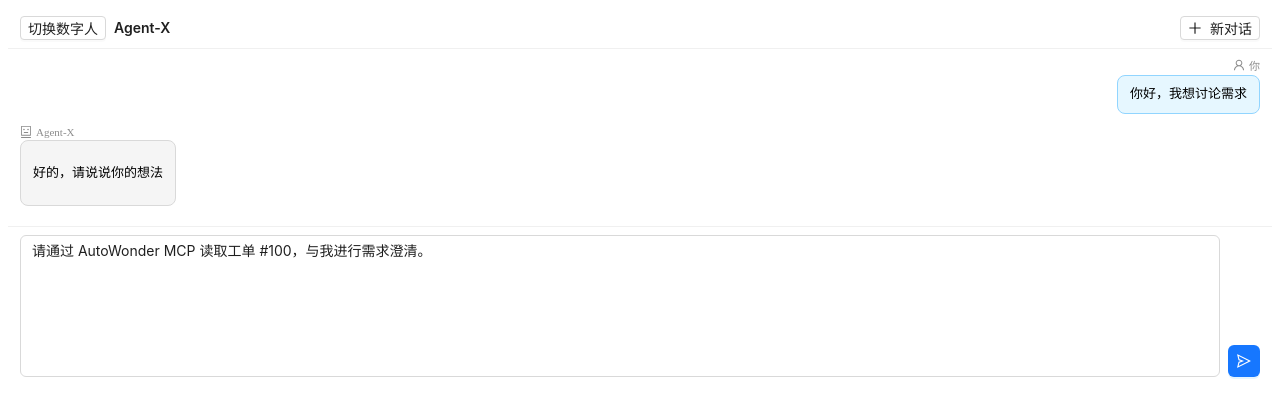
Test: WorkitemClarificationPanel › restores the message and reports an error when sending fails
The image size is (1280, 396).
Replace the text in the text box with placeholder "输入消息..." with "请保留这条消息" at (620, 306), box [20,235,1220,377]
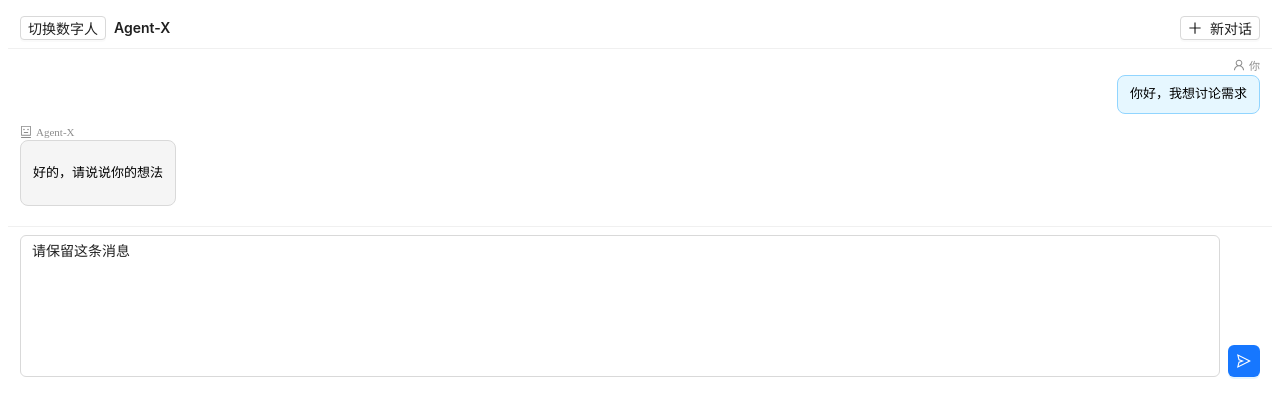
Press Enter in the text box with placeholder "输入消息...", box [20,235,1220,377]
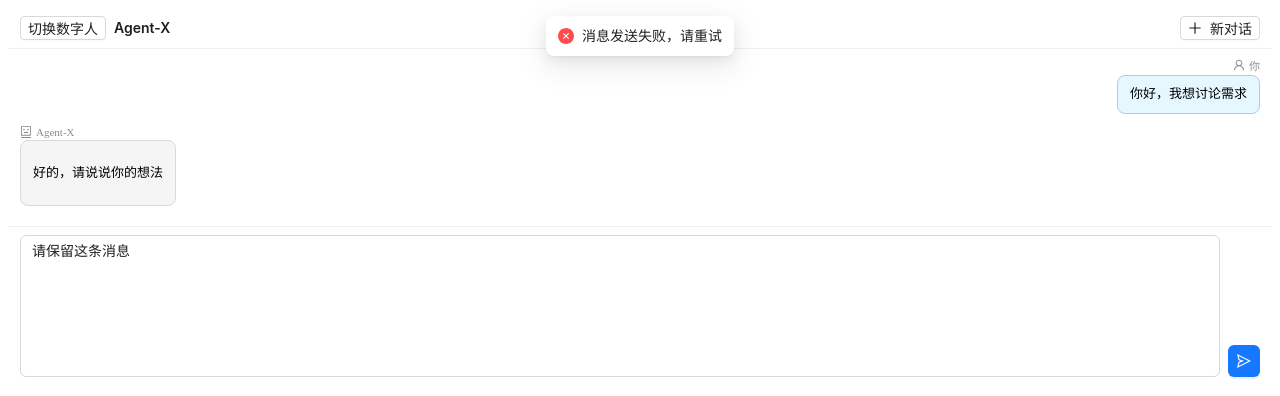
Expected: the text "消息发送失败，请重试" is shown, [582,25,722,47]
